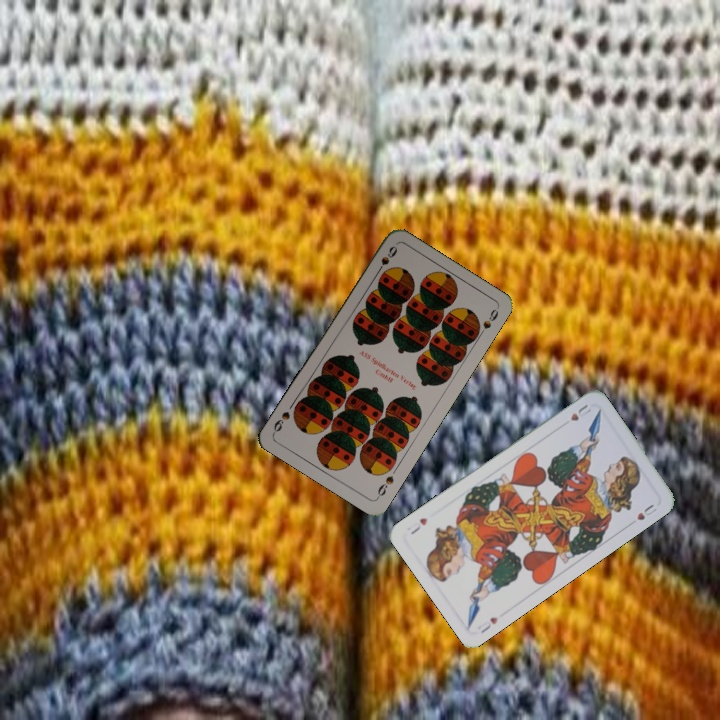HU: (566, 400, 594, 424), (474, 613, 500, 636)
S9: (372, 241, 400, 278), (373, 471, 396, 501)
